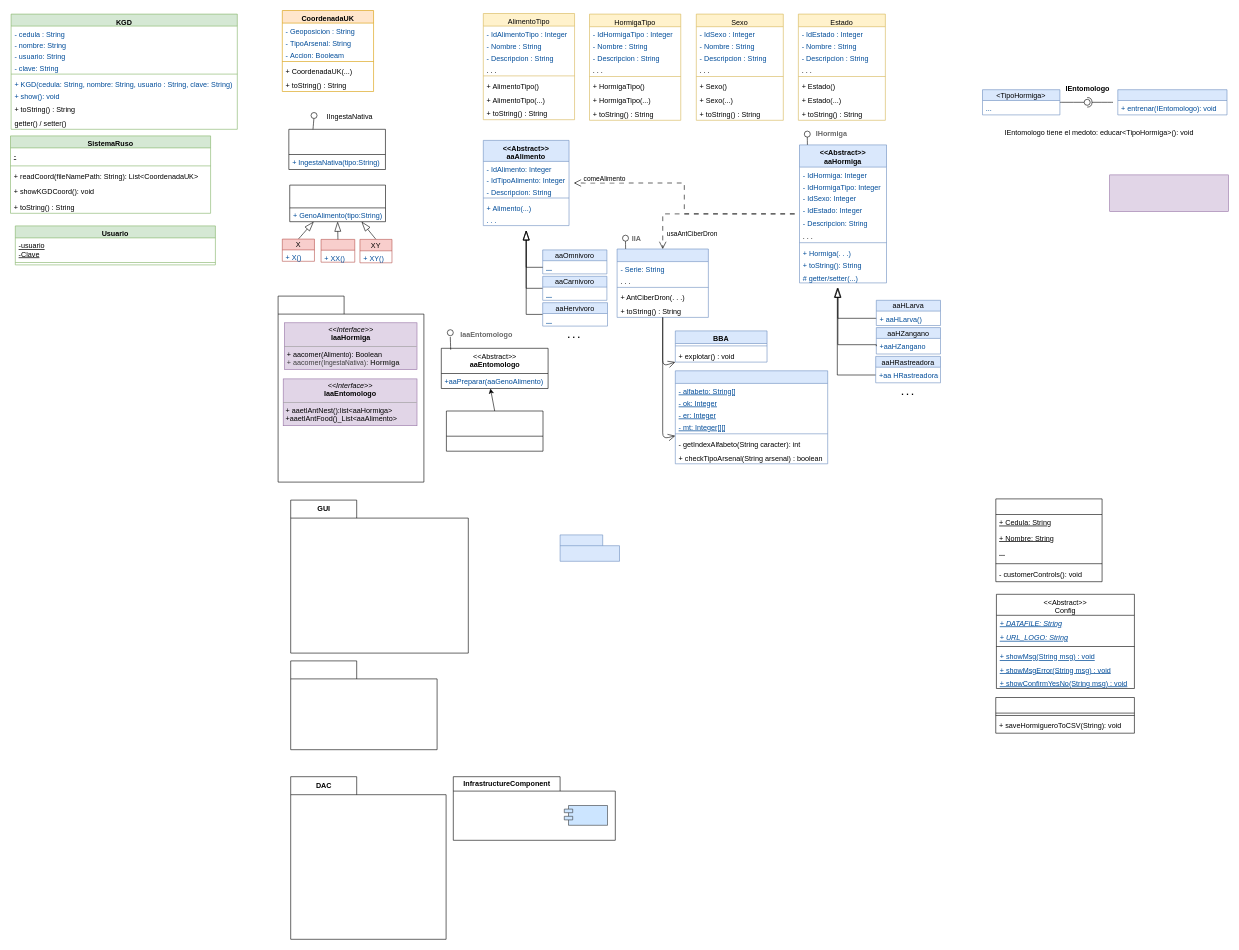
This 1239x950 diagram has some shape labels left out. Here are the shapes that lost their labels. From the top down, the box of each, then its label:
(1117, 89, 1227, 115): Entrenamiento
(288, 129, 385, 170): <<Abstract>> IngestaNativa
(289, 184, 386, 222): <<Abstract>> aaGenoAlimento
(1109, 174, 1228, 212): <<Interface>> IIngestaNativa + inyectar( GenoAlimento ): boolean
(320, 239, 355, 262): XX
(616, 248, 708, 317): aaAntCiberDron
(278, 296, 424, 482): Interfaces
(446, 410, 543, 451): <<Abstract>> aaEtGenetista
(675, 370, 828, 464): aaAutomata
(560, 534, 620, 561): Resource
(995, 498, 1102, 582): FEcuAntApp
(290, 660, 437, 750): BL
(995, 697, 1134, 733): HormigueroDAC
(564, 805, 608, 825): Tools
